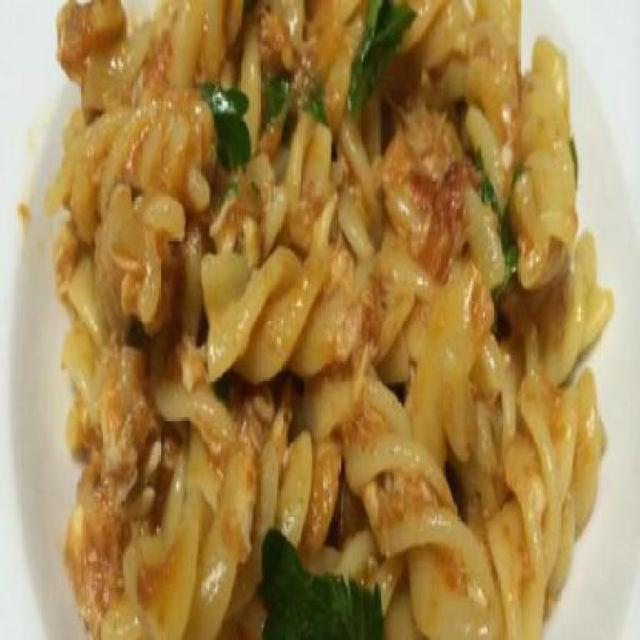Pasta al ragu: (46, 9, 611, 617)
